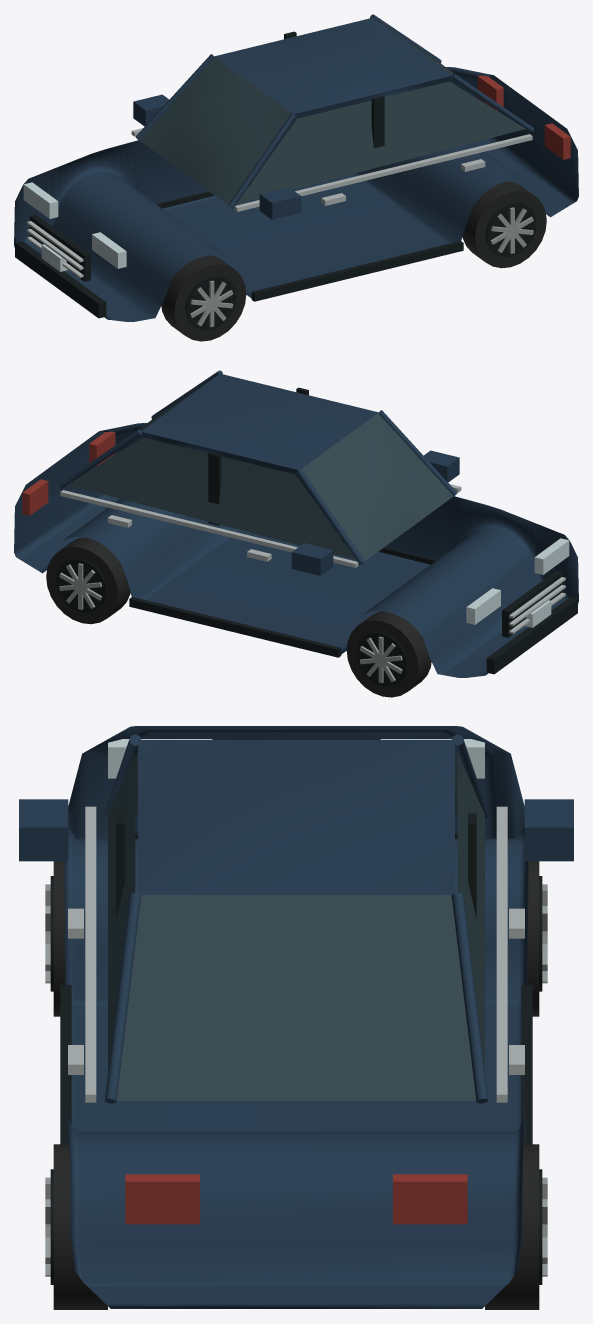
3 renders of one model, top to bottom at view 1: azimuth 30°, elevation 25°; view 2: azimuth 150°, elevation 25°; view 3: azimuth 270°, elevation 25°, orthographic. The views are drawn at different scales.
Parts seen in each view (by area): view 1: Contoured body shell, Side glazing, Crowned roof, Curved windscreen, Tyre (×2), Wheel rim (×2), Lower sill, Painted pillar (×3), Front lower bumper, Door chrome belt, Mirror housing (×2), Headlight (×2) (+3 smaller); view 2: Contoured body shell, Side glazing, Crowned roof, Curved windscreen, Tyre (×2), Wheel rim (×2), Lower sill, Painted pillar (×3), Front lower bumper, Door chrome belt, Mirror housing (×2), Headlight (×2) (+3 smaller); view 3: Contoured body shell, Rear screen, Crowned roof, Tyre (×4), Side glazing (×2), Tail light (×2), Door chrome belt (×2), Mirror housing (×2), Painted pillar (×2), Lower sill (×2), B pillar (×2).
Part boxes in pixels (x1=…): Contoured body shell: x1=14, y1=67, x2=578, y2=321; Side glazing: x1=237, y1=81, x2=525, y2=203; Crowned roof: x1=214, y1=17, x2=451, y2=114; Curved windscreen: x1=139, y1=56, x2=291, y2=204; Tyre (×2): x1=161, y1=181, x2=546, y2=341; Wheel rim (×2): x1=185, y1=202, x2=536, y2=330; Lower sill: x1=251, y1=241, x2=463, y2=301; Painted pillar (×3): x1=135, y1=54, x2=533, y2=208; Front lower bumper: x1=15, y1=241, x2=106, y2=318; Door chrome belt: x1=234, y1=134, x2=532, y2=211; Mirror housing (×2): x1=133, y1=94, x2=301, y2=219; Headlight (×2): x1=23, y1=182, x2=126, y2=268; Contoured body shell: x1=14, y1=423, x2=578, y2=677; Side glazing: x1=67, y1=437, x2=355, y2=559; Crowned roof: x1=141, y1=373, x2=378, y2=470; Curved windscreen: x1=301, y1=412, x2=453, y2=560; Tyre (×2): x1=46, y1=537, x2=431, y2=697; Wheel rim (×2): x1=56, y1=558, x2=407, y2=686; Lower sill: x1=129, y1=597, x2=341, y2=657; Painted pillar (×3): x1=59, y1=410, x2=457, y2=564; Front lower bumper: x1=486, y1=597, x2=577, y2=674; Door chrome belt: x1=60, y1=490, x2=358, y2=567; Mirror housing (×2): x1=291, y1=450, x2=459, y2=575; Headlight (×2): x1=466, y1=538, x2=569, y2=624; Contoured body shell: x1=64, y1=726, x2=528, y2=1308; Rear screen: x1=116, y1=895, x2=476, y2=1100; Crowned roof: x1=138, y1=740, x2=454, y2=894; Tyre (×4): x1=53, y1=861, x2=539, y2=1309; Side glazing (×2): x1=108, y1=753, x2=484, y2=1071; Tail light (×2): x1=125, y1=1174, x2=467, y2=1224; Door chrome belt (×2): x1=85, y1=806, x2=507, y2=1102; Mirror housing (×2): x1=19, y1=799, x2=573, y2=861; Painted pillar (×2): x1=104, y1=892, x2=488, y2=1103; Lower sill (×2): x1=60, y1=985, x2=532, y2=1144; B pillar (×2): x1=116, y1=813, x2=476, y2=918.
Bounding box in the file's own units: 4.47 × 1.7 × 2.24.
